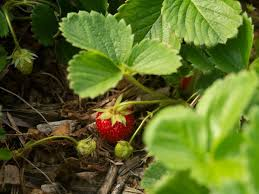ripe: (95, 105, 133, 143)
unripe: (11, 46, 35, 76), (113, 139, 135, 161), (77, 137, 96, 155)
